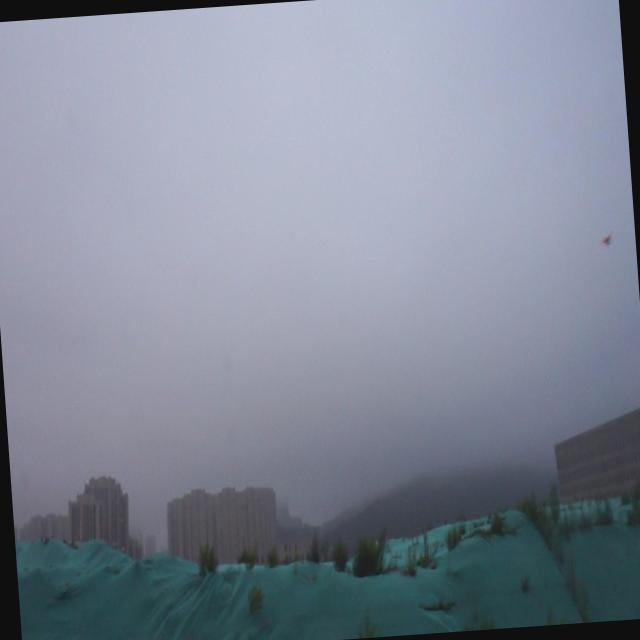drone: (599, 226, 617, 252)
